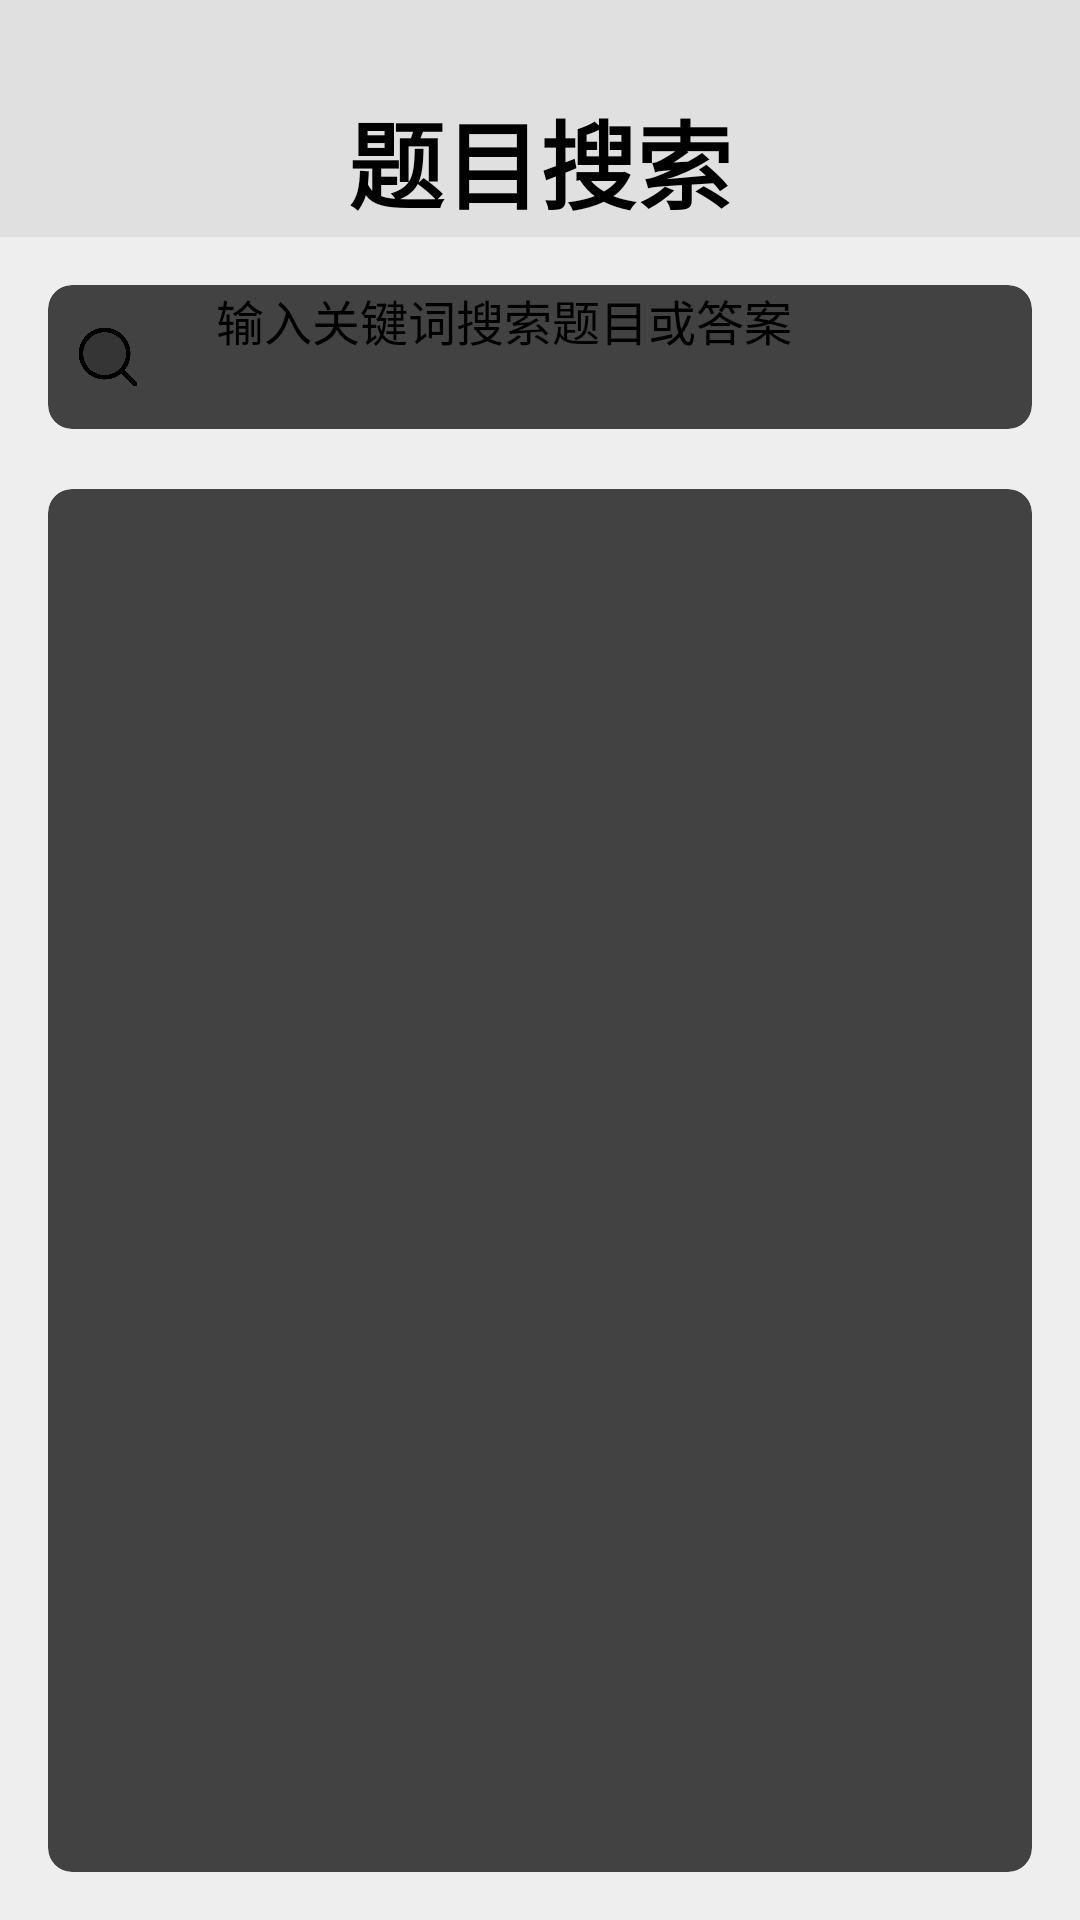

Icon bounding boxes for this 1080×1920 phone screenshot, format (x1, y1, x2, y2):
magnifying glass duotone: (79, 328, 137, 386)
